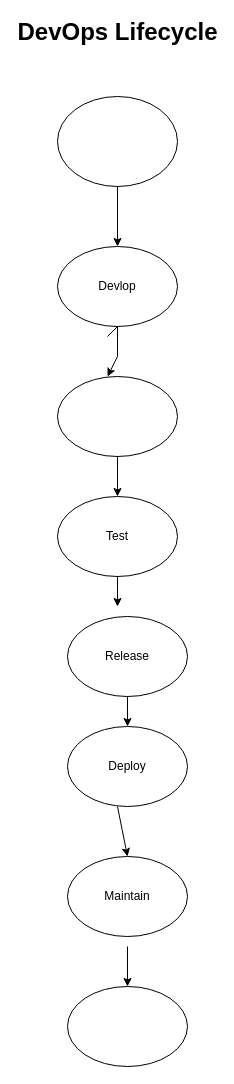
Some shapes in this 234 by 1084 pixel diagram are drawn without their labels. The box of each missing label's shape, as (x1, y1, x2, y2) in pixels:
Build: (56, 376, 178, 456)
Monitory: (66, 986, 188, 1066)
Plan: (56, 96, 178, 186)
